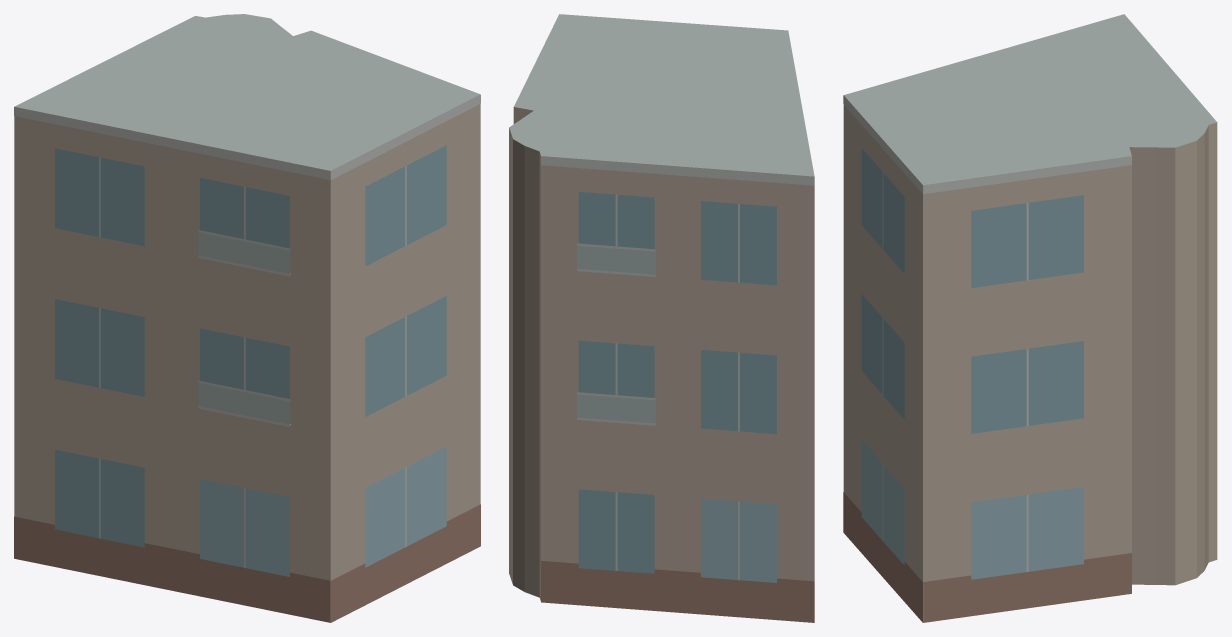
The model's file is survey-upis-32502067.glb.
3 renders of one model, left to right at view 1: azimuth 30°, elevation 25°; view 2: azimuth 150°, elevation 25°; view 3: azimuth 270°, elevation 25°, orthographic. The views are drawn at different scales.
Visible parts, largest first — view 1: survey-upis-32502067.tmp; view 2: survey-upis-32502067.tmp; view 3: survey-upis-32502067.tmp.
Boxes of the visible parts, bbox=[...] form: survey-upis-32502067.tmp: bbox=[14, 14, 480, 622]; survey-upis-32502067.tmp: bbox=[509, 14, 814, 622]; survey-upis-32502067.tmp: bbox=[843, 14, 1217, 622].
Size of the model in its own units: 10 by 11.9 by 9.22.
